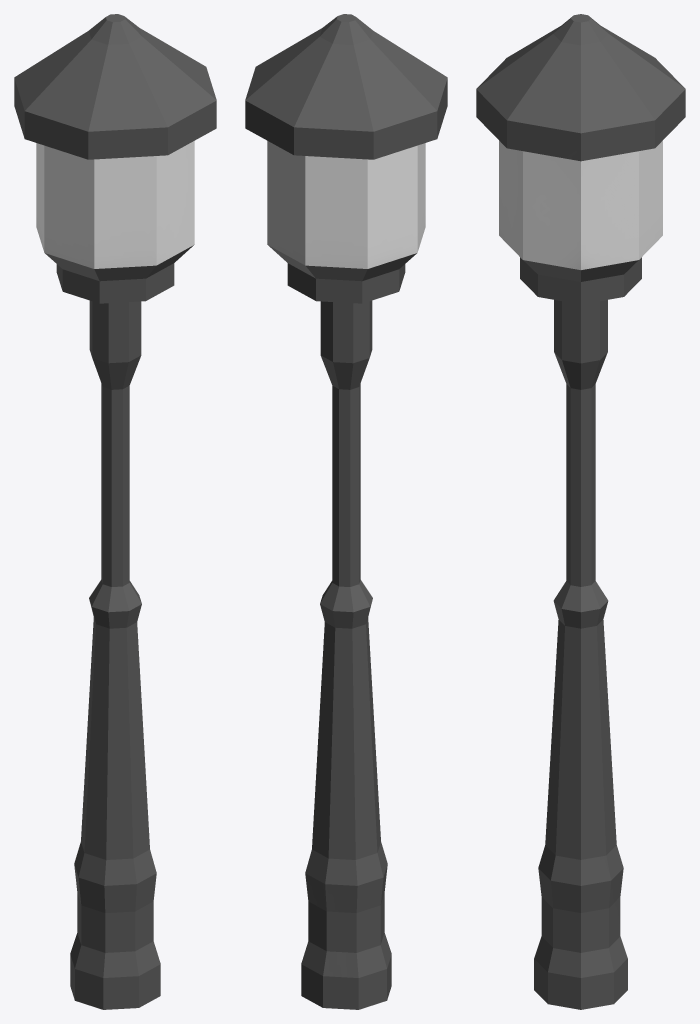
The model's file is Poste.fbx.
3 views of the same model, side by side, from view 1: azimuth 30°, elevation 25°; view 2: azimuth 150°, elevation 25°; view 3: azimuth 270°, elevation 25° (orthographic).
Visible parts, largest first — view 1: Cylinder; view 2: Cylinder; view 3: Cylinder.
Boxes of the visible parts, x1,y1,x2,y2 form: Cylinder: [14, 14, 216, 1009]; Cylinder: [245, 14, 447, 1009]; Cylinder: [476, 14, 685, 1009].
Bounding box in the file's own units: 447 × 2288 × 447.
